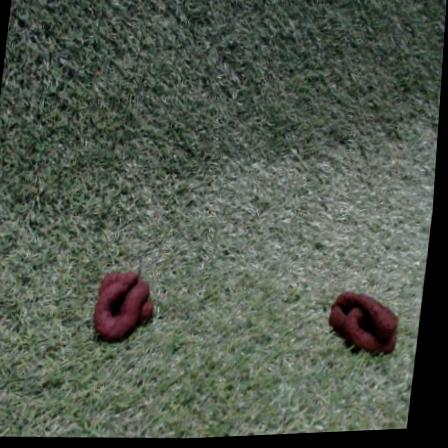dog-poop: (330, 288, 409, 367), (99, 267, 165, 346)
